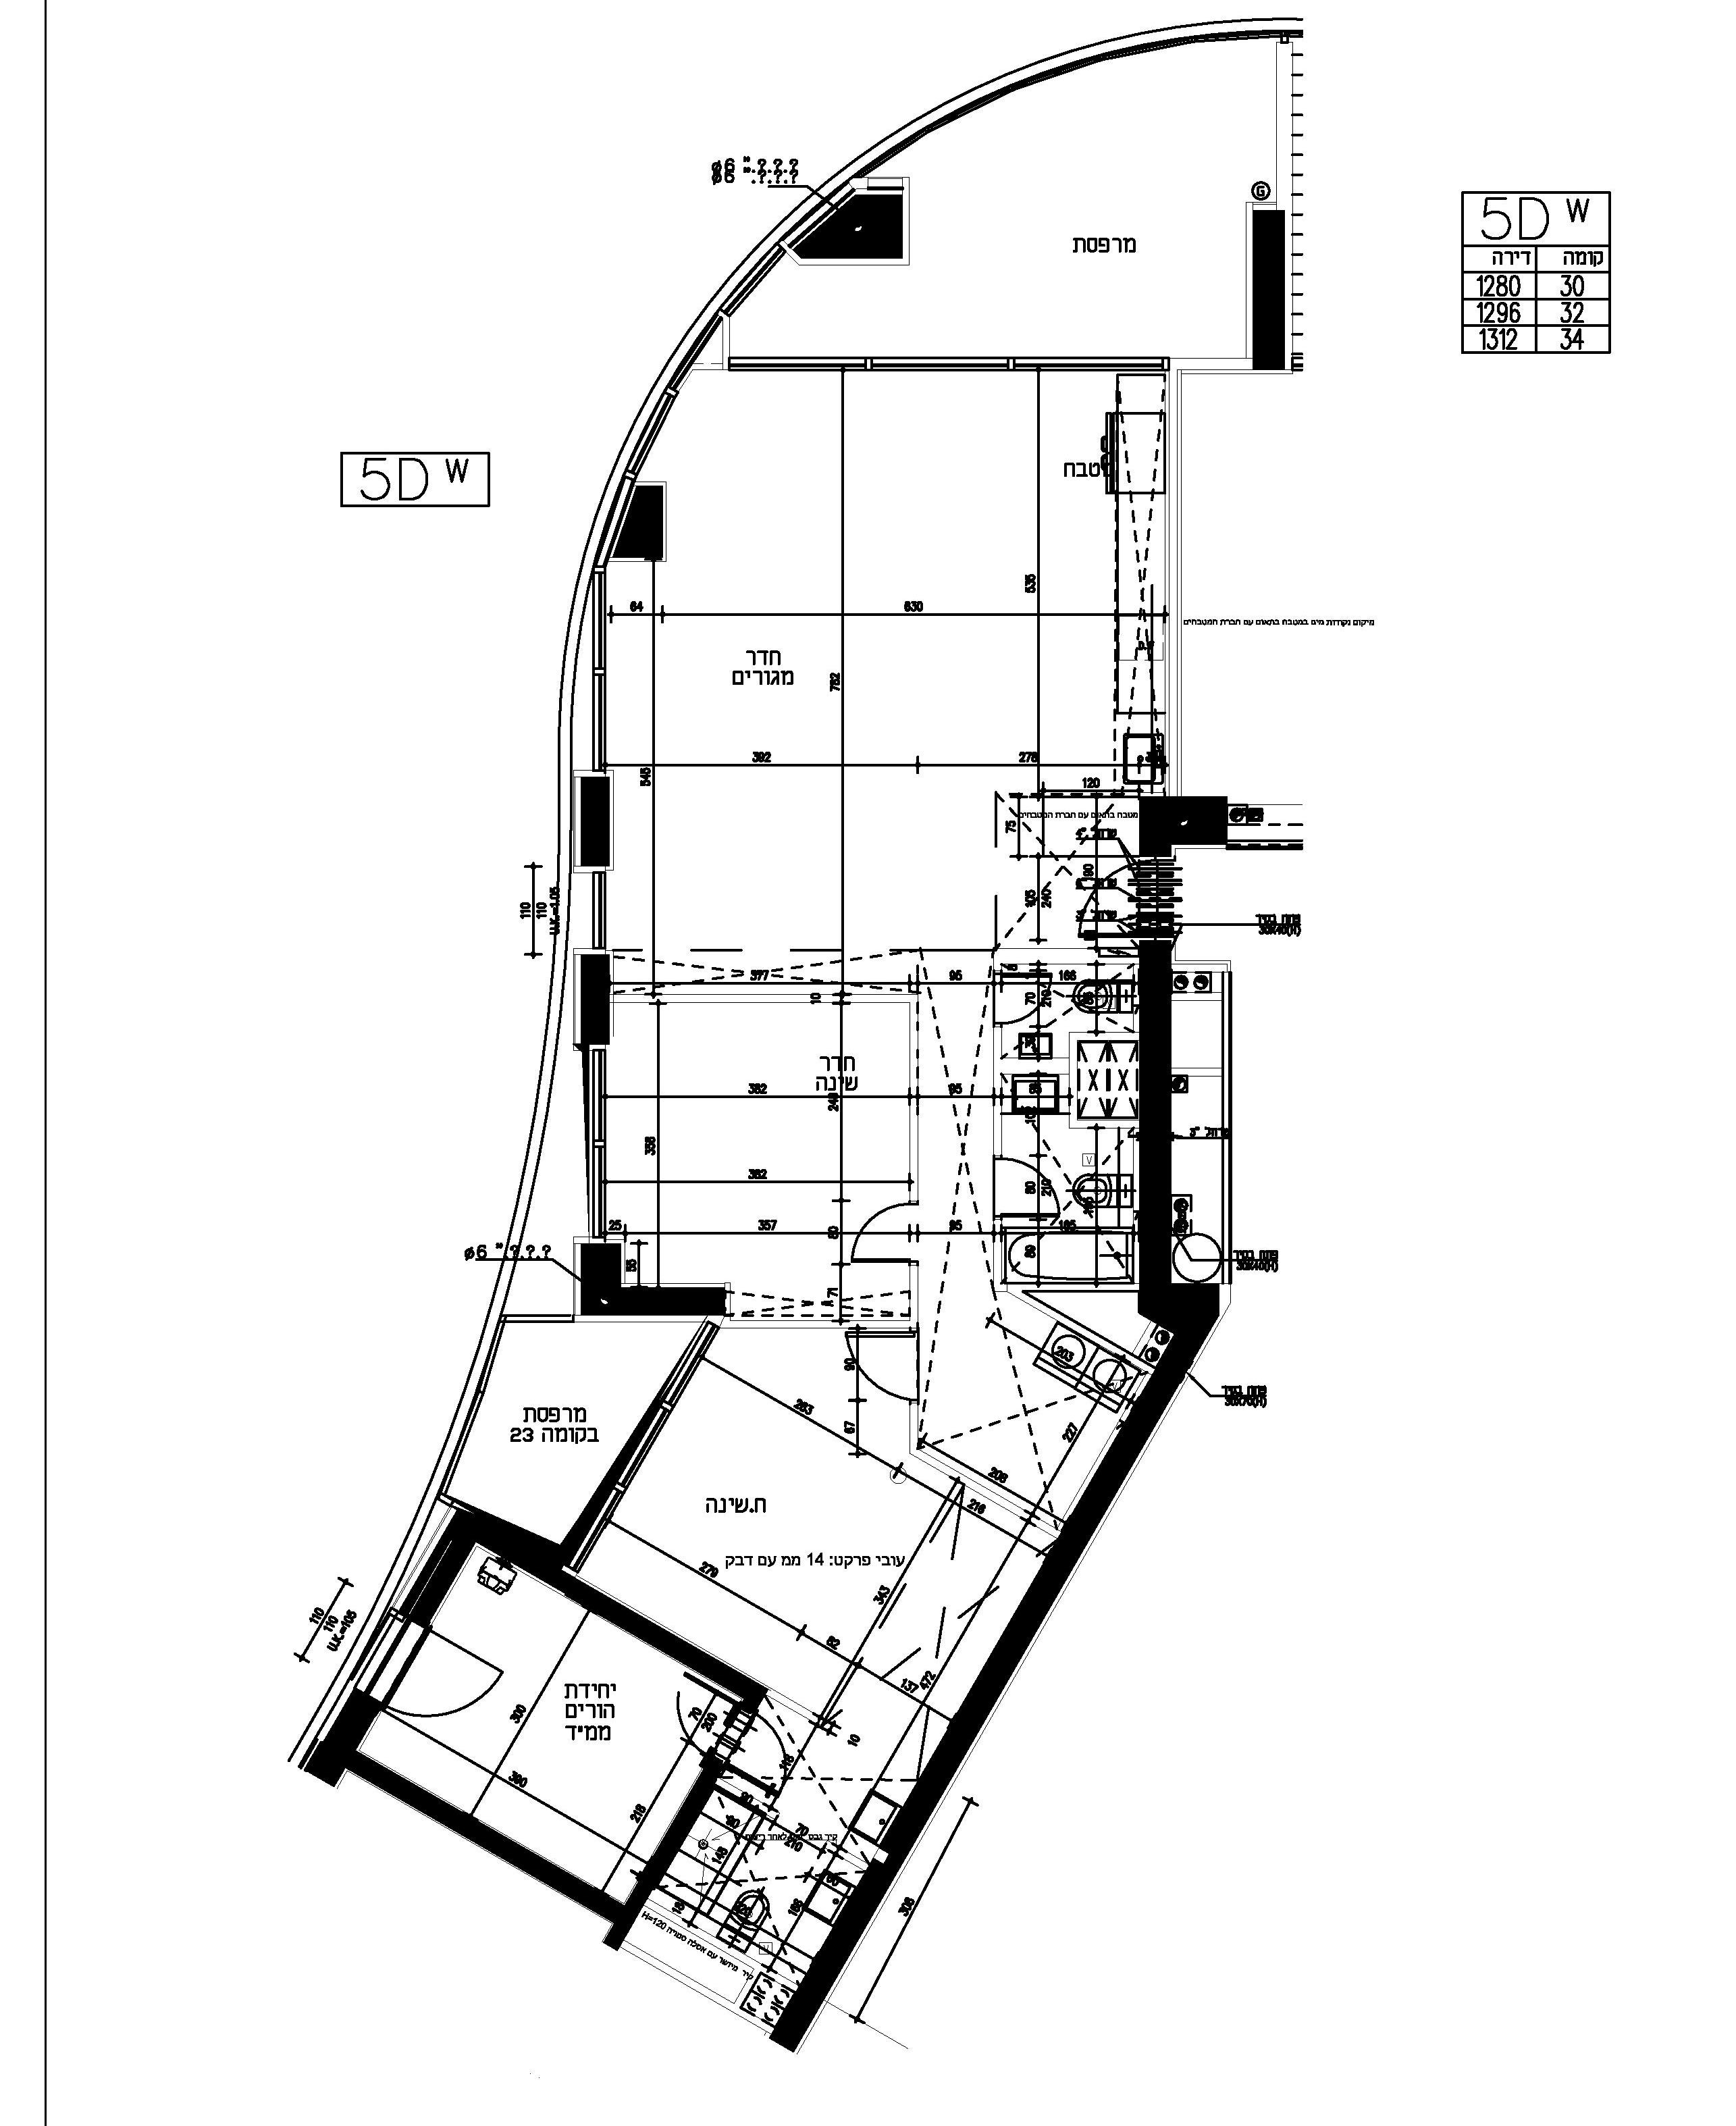door: (431, 1633, 510, 1732)
wall: (1143, 943, 1171, 1314), (1256, 210, 1280, 366), (585, 1289, 715, 1317)
